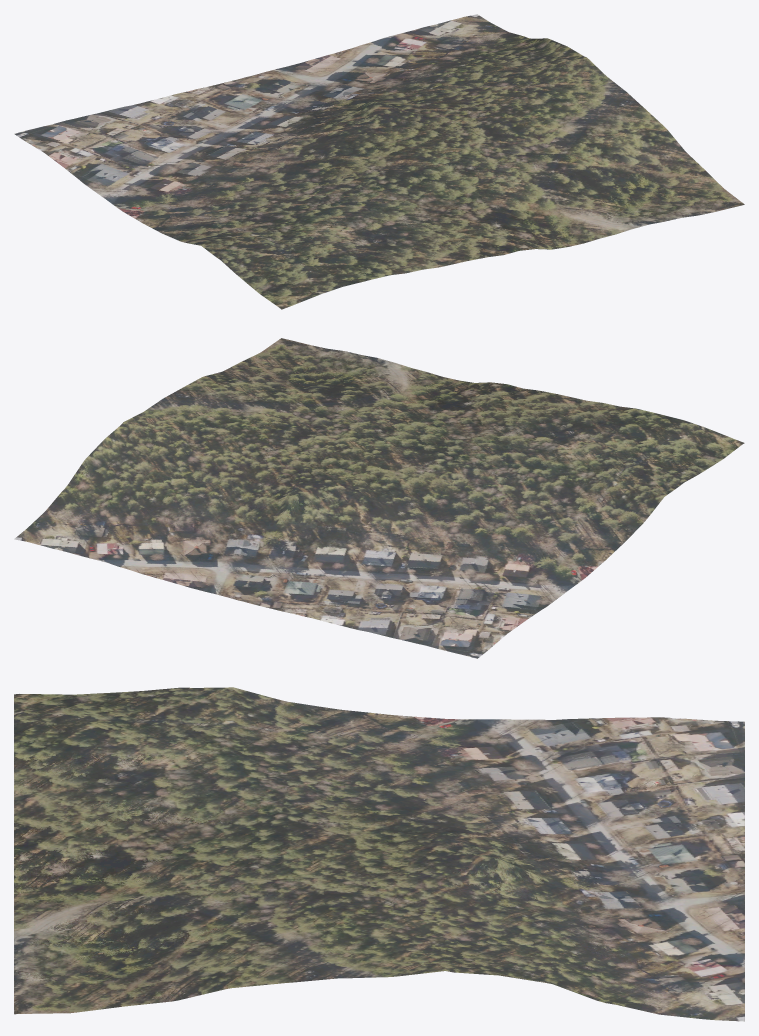
File: CM_Terrain_24488410_6822251.fbx
3 renders of one model, top to bottom at view 1: azimuth 30°, elevation 25°; view 2: azimuth 150°, elevation 25°; view 3: azimuth 270°, elevation 25°, orthographic. The views are drawn at different scales.
Visible parts, largest first — view 1: CM_Terrain_24488410_6822251_LOD0; view 2: CM_Terrain_24488410_6822251_LOD0; view 3: CM_Terrain_24488410_6822251_LOD0.
Boxes of the visible parts, bbox=[...] form: CM_Terrain_24488410_6822251_LOD0: bbox=[14, 14, 744, 309]; CM_Terrain_24488410_6822251_LOD0: bbox=[14, 338, 744, 658]; CM_Terrain_24488410_6822251_LOD0: bbox=[14, 687, 744, 1021].
Size of what is drawn, in the model's own units: 205 by 18.52 by 205.
